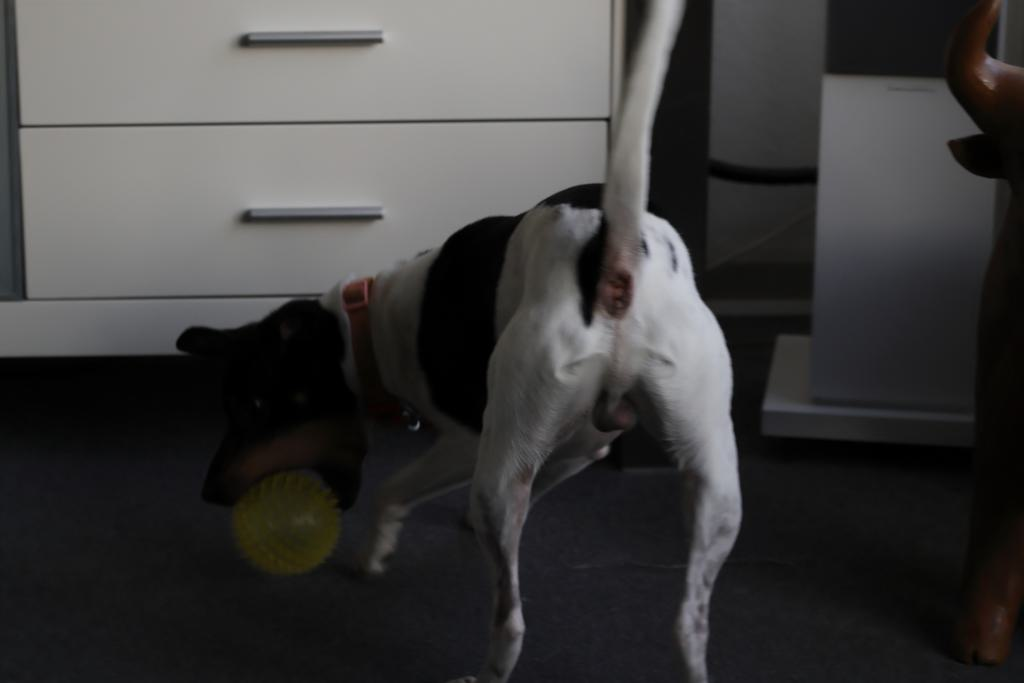Cattle: (902, 0, 1024, 669)
Dog: (159, 0, 761, 683)
